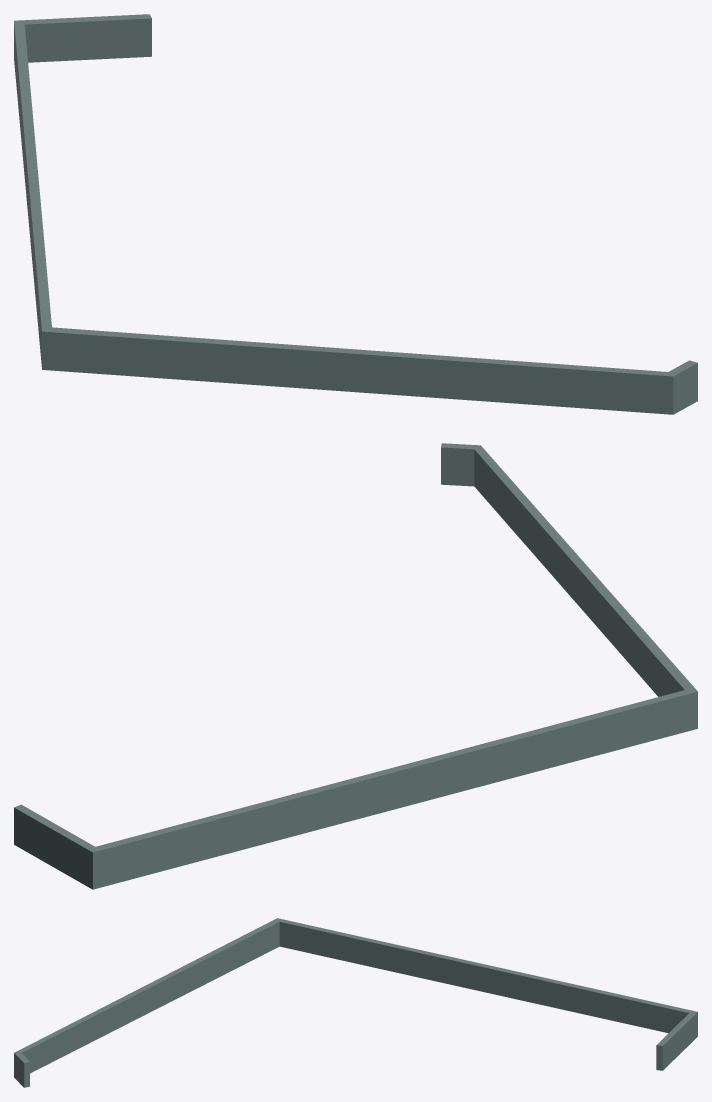
File: Grass_001.fbx
3 renders of one model, top to bottom at view 1: azimuth 30°, elevation 25°; view 2: azimuth 150°, elevation 25°; view 3: azimuth 270°, elevation 25°, orthographic. The views are drawn at different scales.
Parts seen in each view (by area): view 1: Grass.001; view 2: Grass.001; view 3: Grass.001.
Part boxes in pixels (x1,y1,x2,y2): Grass.001: (14, 14, 697, 414); Grass.001: (14, 443, 697, 889); Grass.001: (14, 918, 697, 1087).
Size of the model in its own units: 9.74 by 0.7756 by 19.42.
